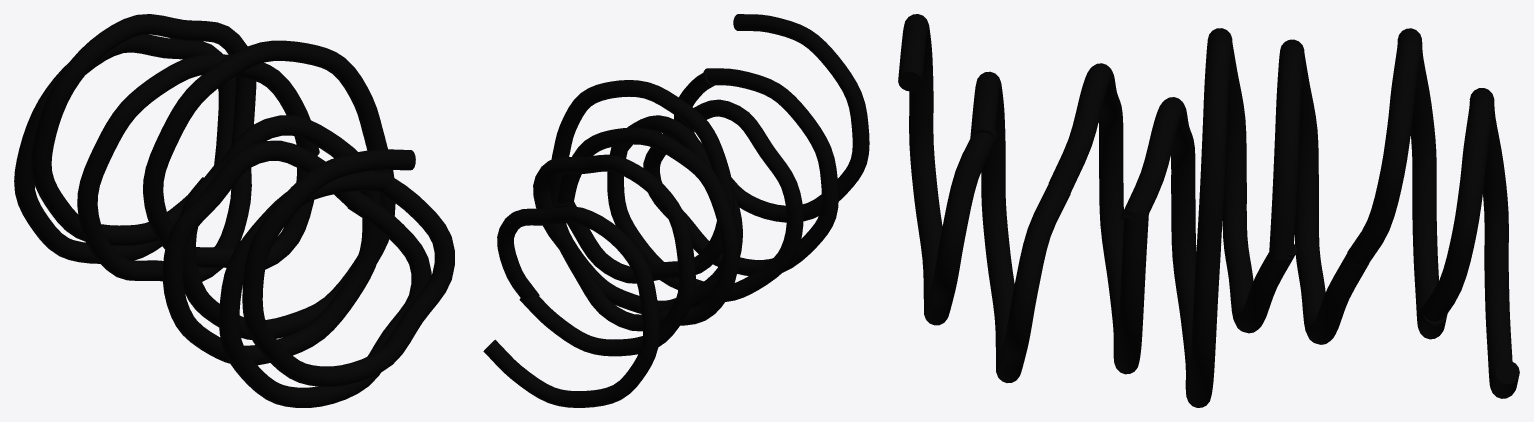
Rendered from spring.fbx.
3 renders of one model, left to right at view 1: azimuth 30°, elevation 25°; view 2: azimuth 150°, elevation 25°; view 3: azimuth 270°, elevation 25°, orthographic. The views are drawn at different scales.
Visible parts, largest first — view 1: root (×8); view 2: root (×8); view 3: root (×8).
Boxes of the visible parts, x1=… form: root (×8): x1=14, y1=14, x2=454, y2=407; root (×8): x1=483, y1=14, x2=869, y2=407; root (×8): x1=898, y1=14, x2=1519, y2=407.
Size of the model in its own units: 0.2911 by 0.3067 by 0.4829.
Materials: 1 (1 with a texture image).
